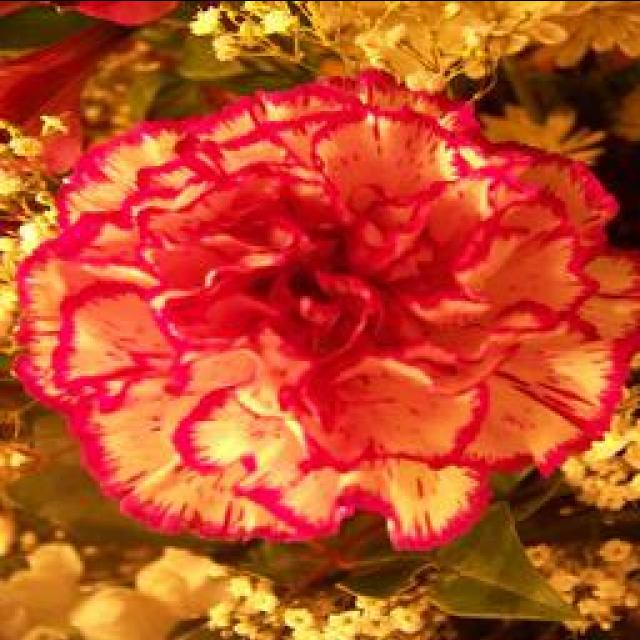carnation: (2, 54, 629, 574)
